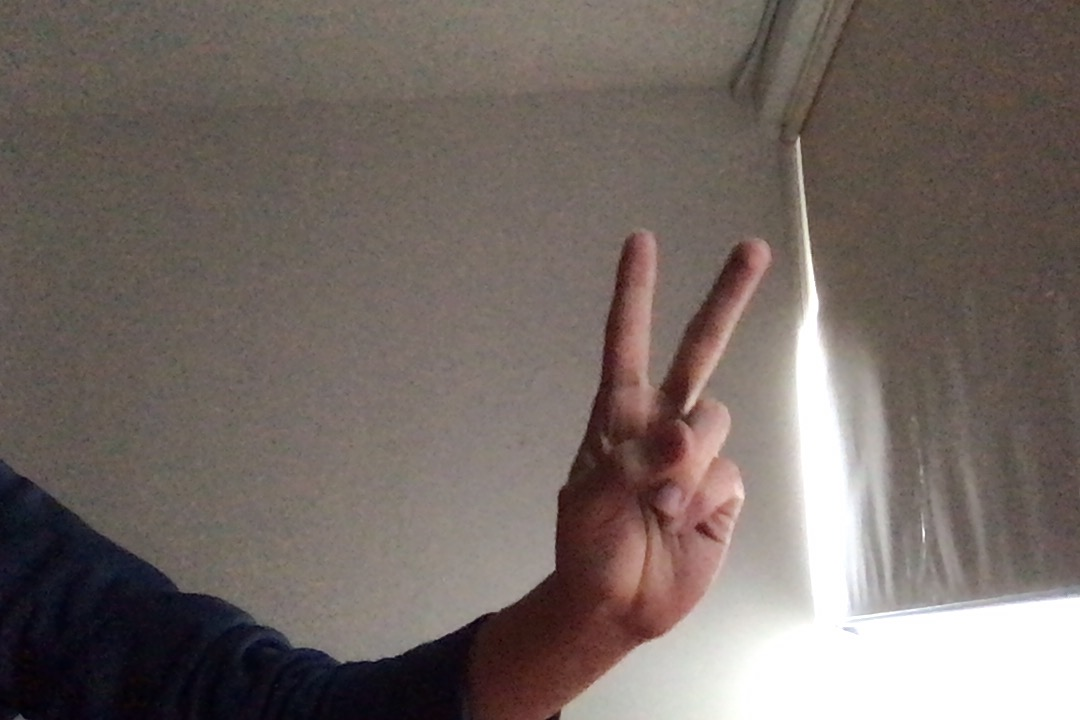peacesign: (546, 222, 780, 649)
